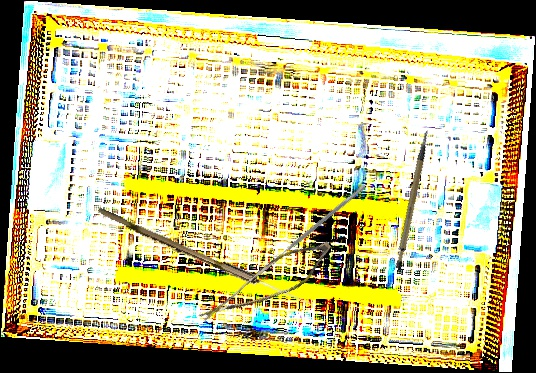Micro Scissor: (196, 219, 338, 352)
Scalpel Handle: (377, 129, 451, 271)
Spatula Surgical: (271, 180, 367, 263)
Surgical Spoon: (95, 207, 316, 310)
